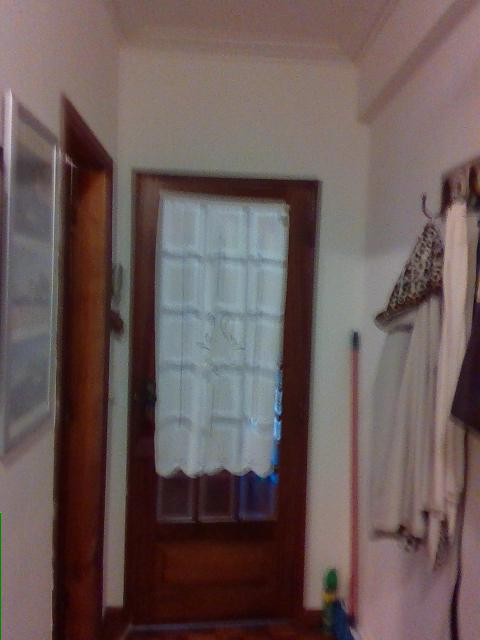door: (125, 169, 322, 622), (53, 91, 113, 640)
